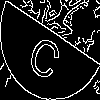C: (25, 25, 67, 84)
